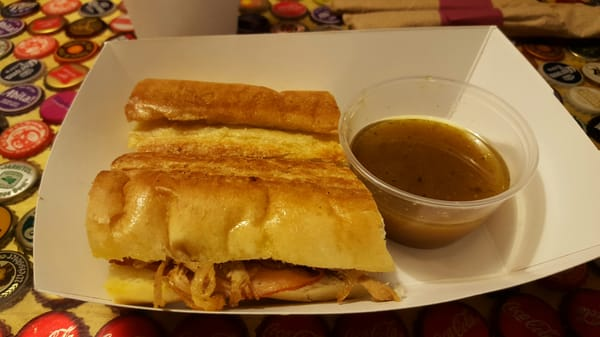soup: (85, 132, 402, 309)
sushi: (338, 73, 541, 250)
